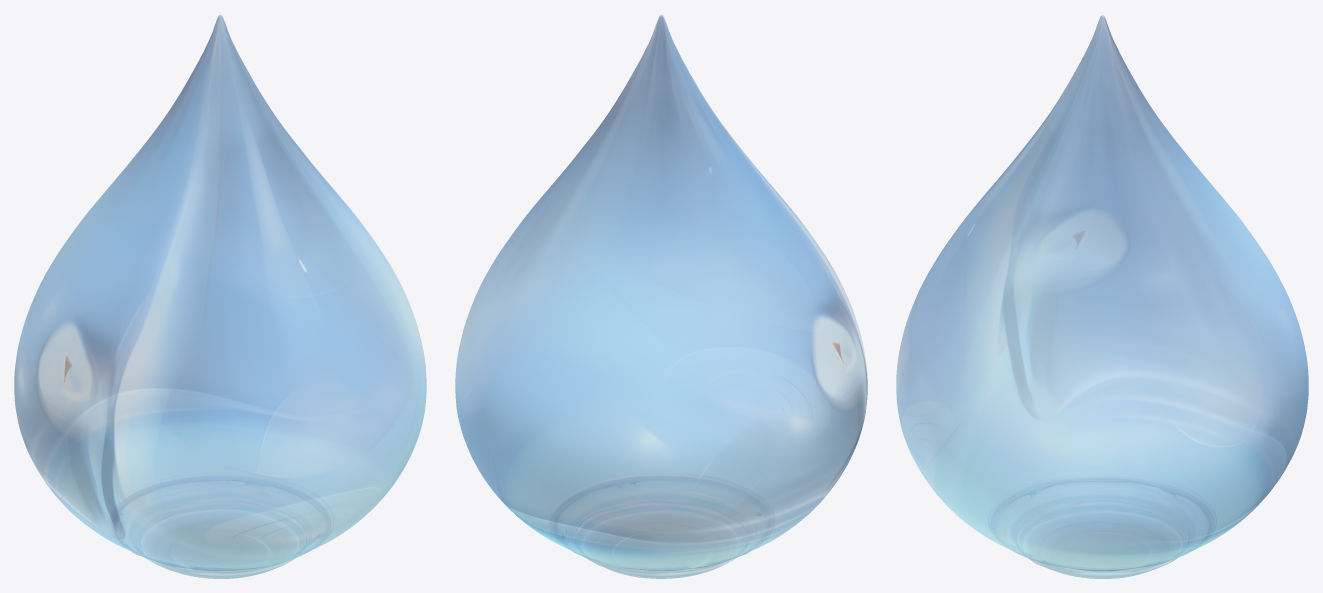
The picture shows the model from 3 angles, left to right: view 1: azimuth 30°, elevation 25°; view 2: azimuth 150°, elevation 25°; view 3: azimuth 270°, elevation 25°; orthographic projection.
Visible parts, largest first — view 1: model_0; view 2: model_0; view 3: model_0.
Part boxes in pixels (x1,y1,x2,y2): model_0: (14,15,426,578); model_0: (455,14,867,578); model_0: (896,15,1308,578).
Size of the model in its own units: 1.32 by 1.9 by 1.32.
1 material, 1 textured.
